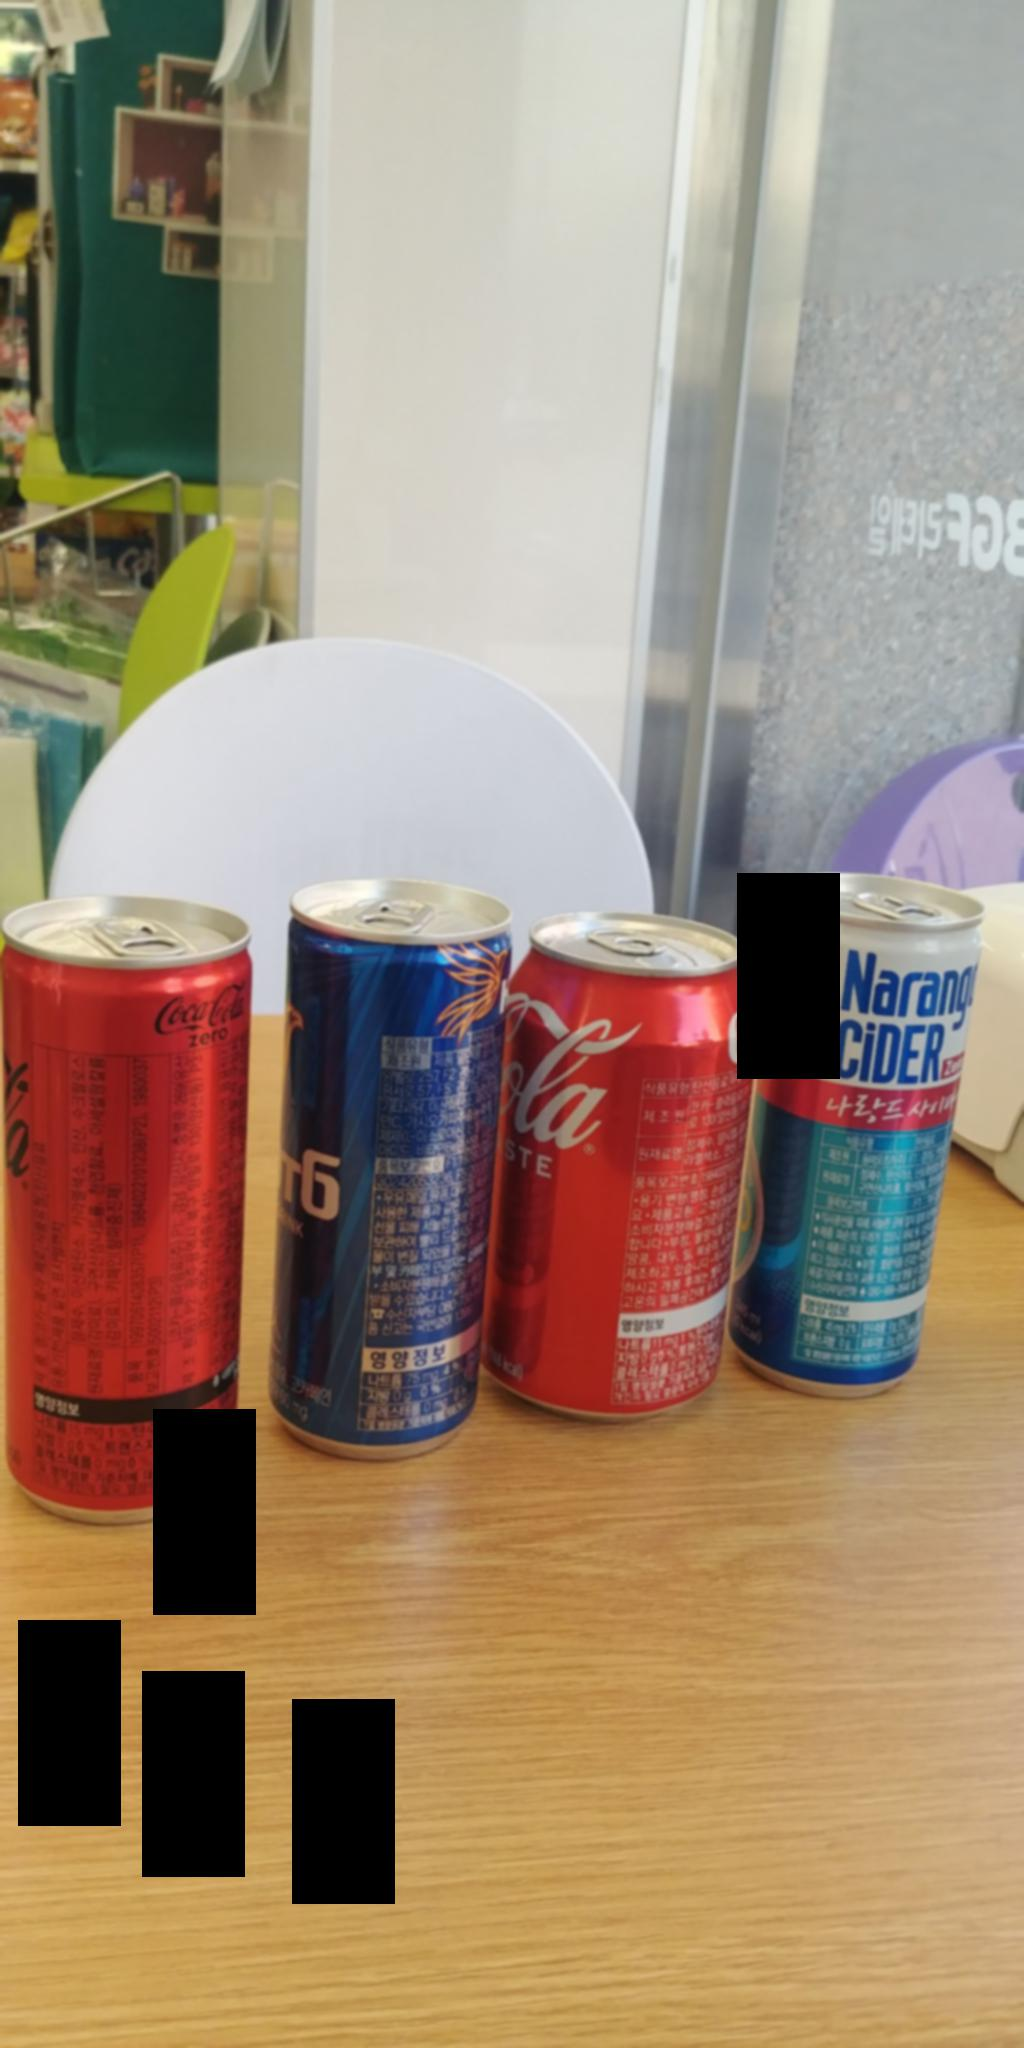cocacola: (508, 886, 742, 1420)
hotsix_org: (253, 857, 517, 1480)
narangdcider: (755, 856, 1011, 1392)
